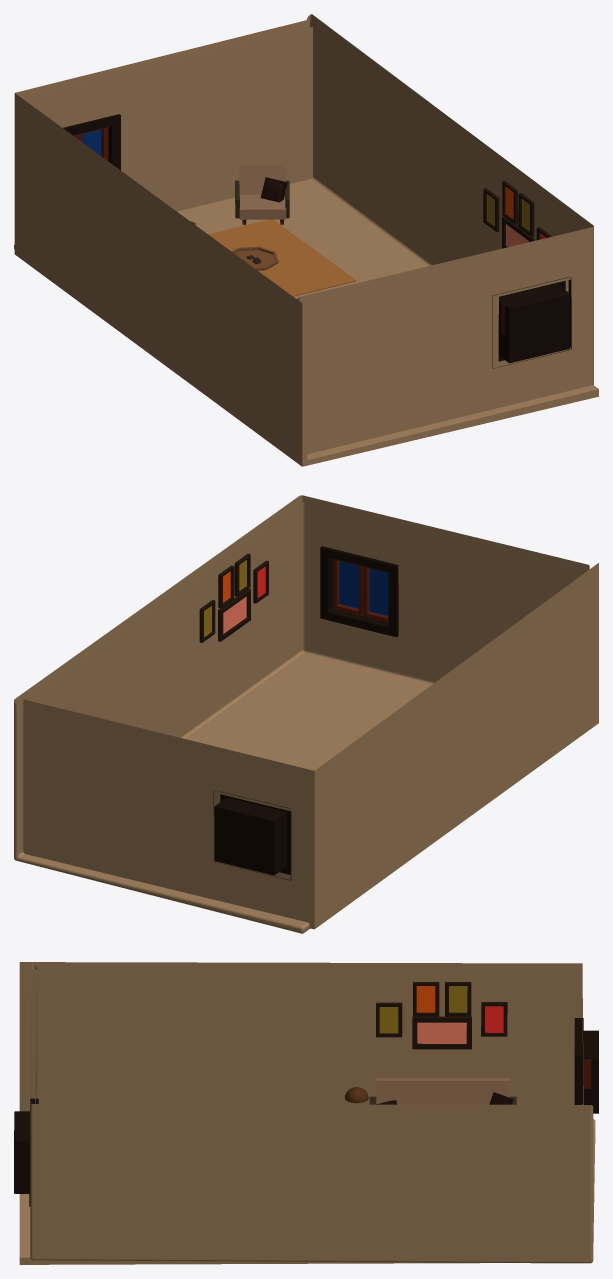
The model's file is cenario.obj.
The picture shows the model from 3 angles, top to bottom: view 1: azimuth 30°, elevation 25°; view 2: azimuth 150°, elevation 25°; view 3: azimuth 270°, elevation 25°; orthographic projection. The views are drawn at different scales.
Parts seen in each view (by area): view 1: Cube.017; view 2: Cube.017; view 3: Cube.017.
Boxes of the visible parts, x1=… form: Cube.017: x1=14, y1=14, x2=598, y2=466; Cube.017: x1=14, y1=495, x2=598, y2=933; Cube.017: x1=14, y1=962, x2=598, y2=1264.
Size of the model in its own units: 8.39 by 4.42 by 14.4.
